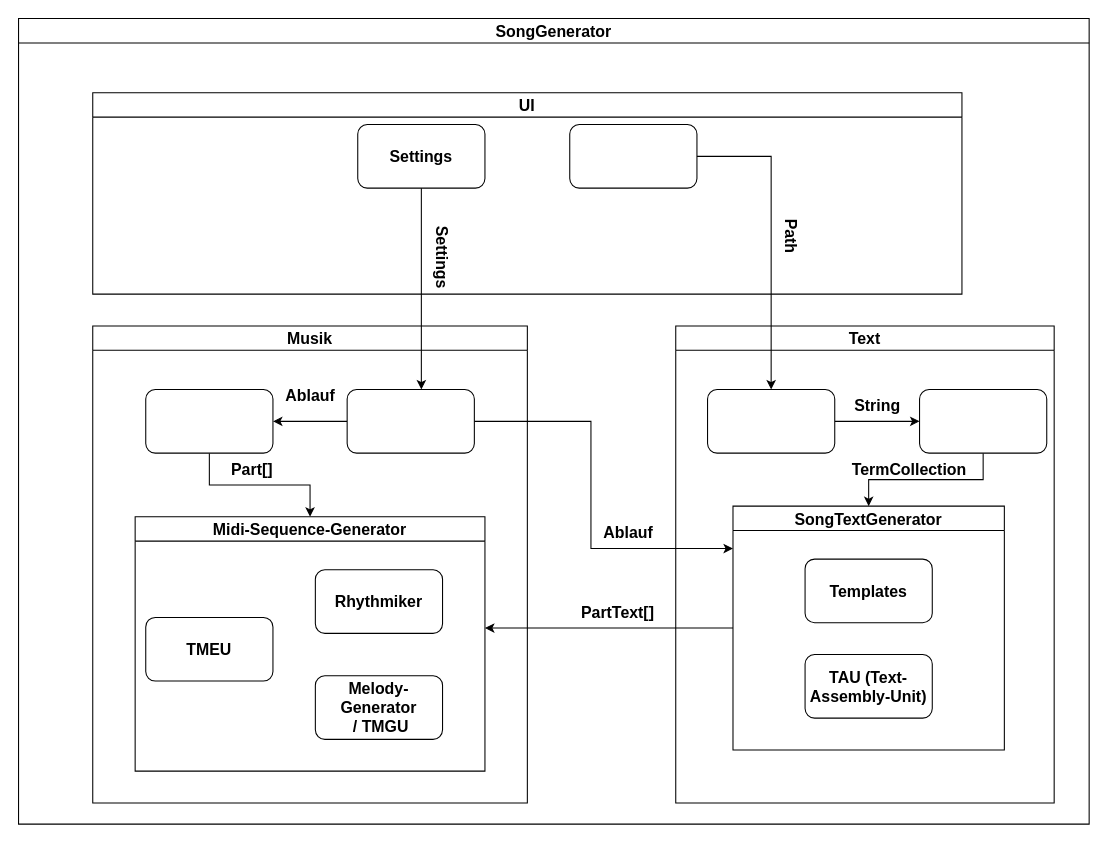
Image size: 1108x843. Some labels were removed from this diagram. Each missing label, with the centre of its shape:
Ablaufgenerator: (x=410, y=420)
FileReader: (x=770, y=420)
LoadInput: (x=633, y=155)
Partgenerator: (x=209, y=420)
TextAnalyze r: (x=982, y=420)
